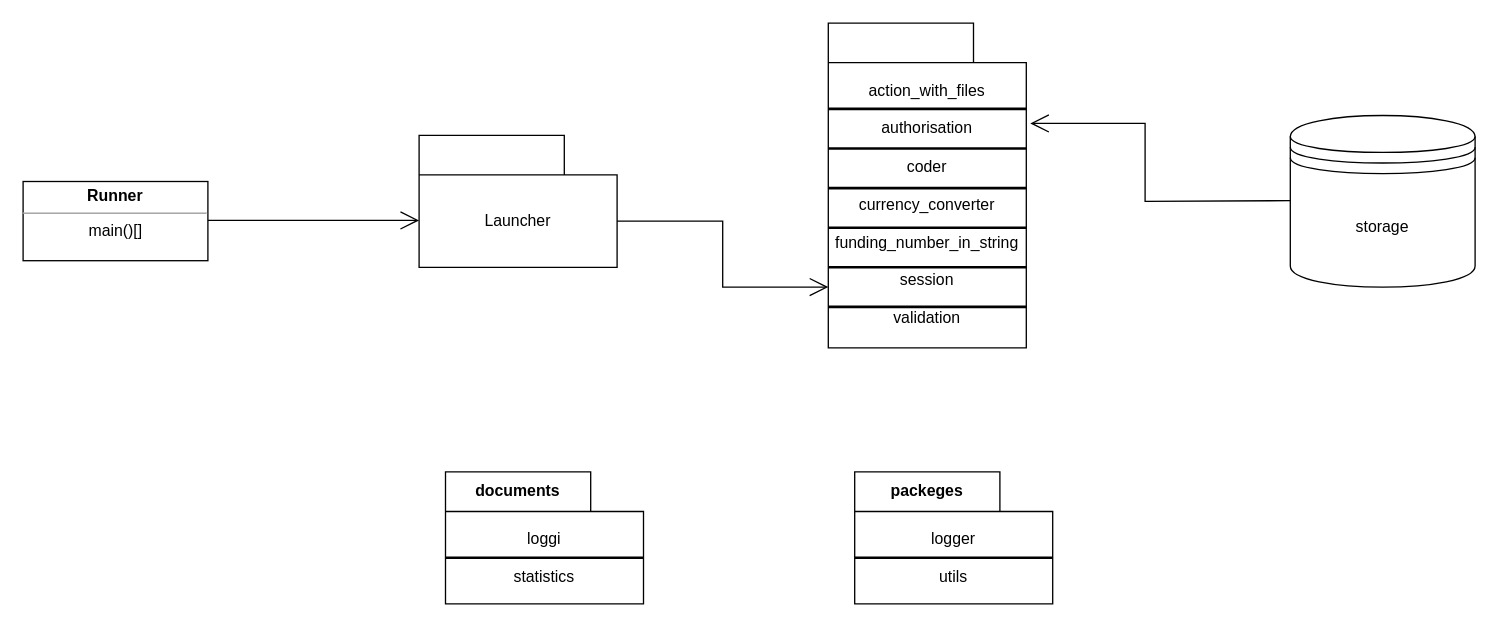
Image size: 1498x627. Some labels were removed from this diagram. Here are the shapes that lost their labels. From the top down, the centre of each, then its label:
the point at 517,200: lauch
the point at 926,185: services
